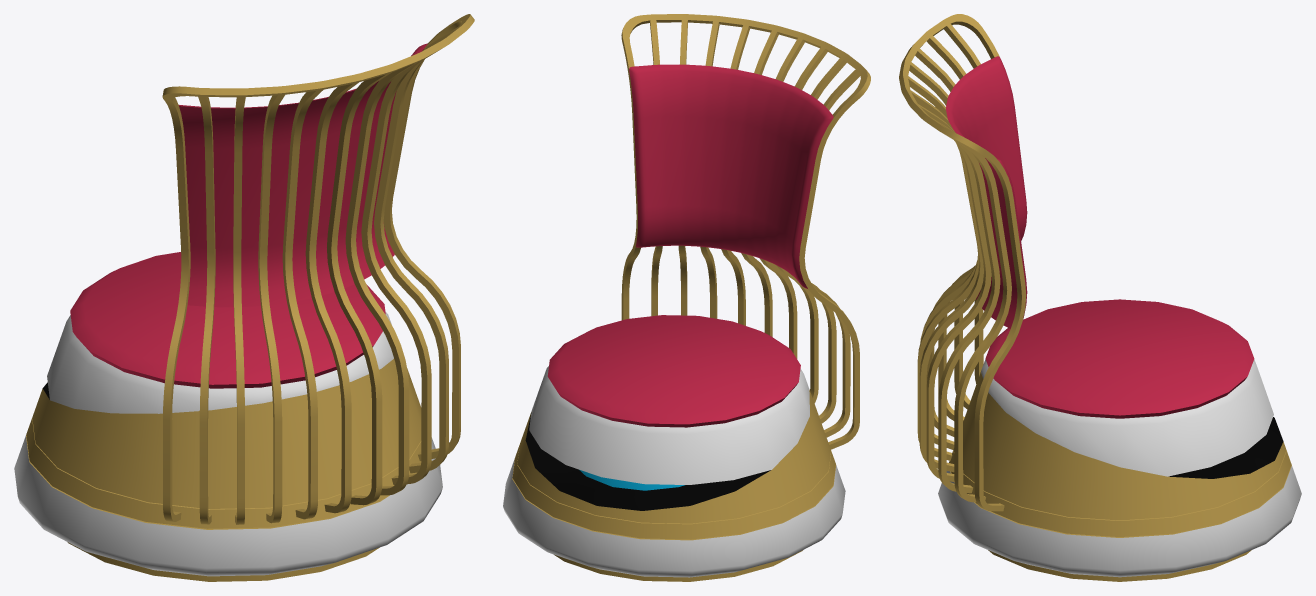
Rendered from Chair_B_02.fbx.
3 renders of one model, left to right at view 1: azimuth 30°, elevation 25°; view 2: azimuth 150°, elevation 25°; view 3: azimuth 270°, elevation 25°, orthographic. The views are drawn at different scales.
Parts seen in each view (by area): view 1: Chair_B_02; view 2: Chair_B_02; view 3: Chair_B_02.
Boxes of the visible parts, x1,y1,x2,y2 form: Chair_B_02: [14, 14, 474, 581]; Chair_B_02: [503, 14, 870, 581]; Chair_B_02: [899, 14, 1301, 581].
Bounding box in the file's own units: 114 × 153 × 126.
